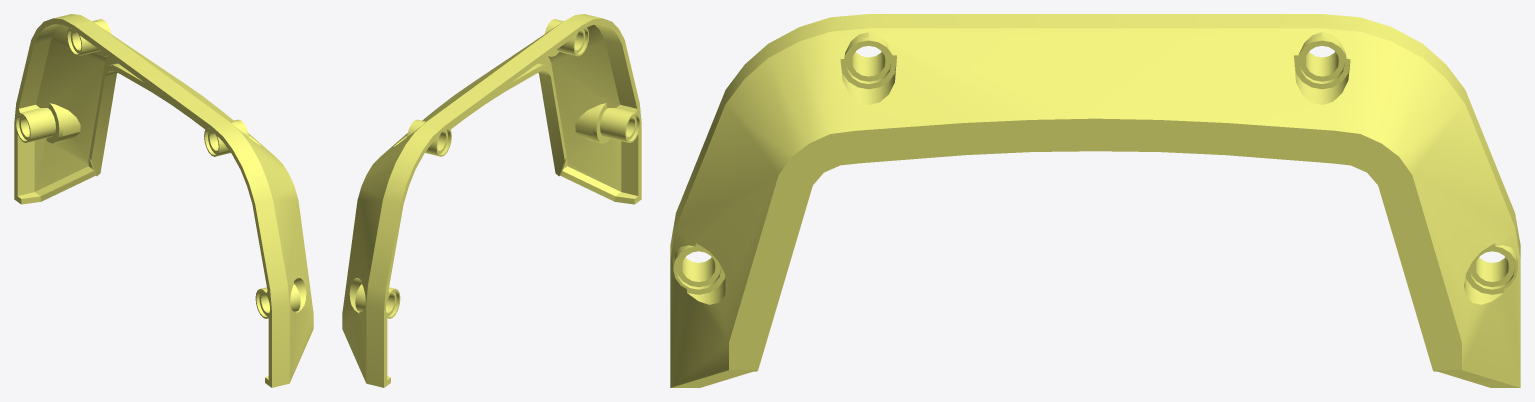
3 renders of one model, left to right at view 1: azimuth 30°, elevation 25°; view 2: azimuth 150°, elevation 25°; view 3: azimuth 270°, elevation 25°, orthographic. The views are drawn at different scales.
Visible parts, largest first — view 1: 46882.dat; view 2: 46882.dat; view 3: 46882.dat.
Part boxes in pixels (x1=…): 46882.dat: x1=14, y1=14, x2=313, y2=387; 46882.dat: x1=342, y1=14, x2=641, y2=387; 46882.dat: x1=670, y1=14, x2=1520, y2=387.
Bounding box in the file's own units: 0.016 × 0.056 × 0.12.
